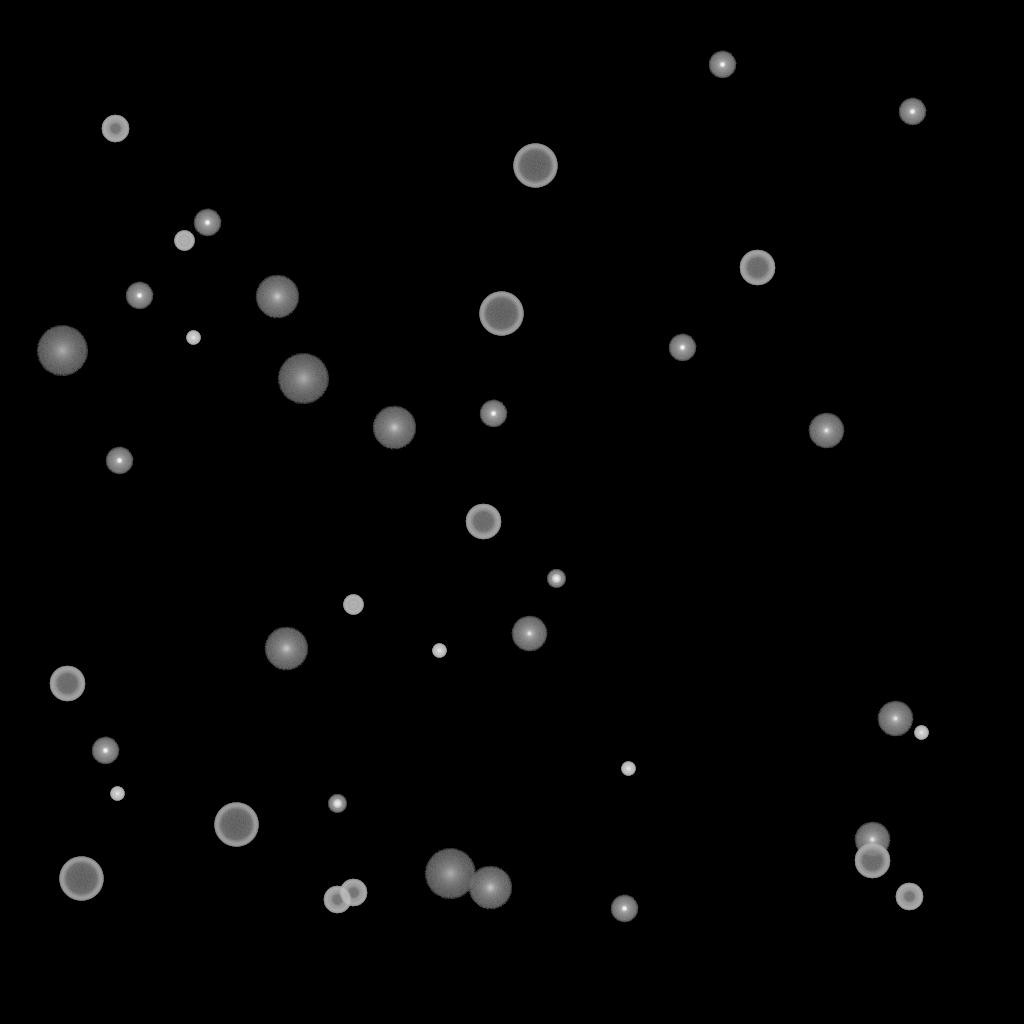depth:-10: (708, 51, 736, 79), (668, 334, 696, 362), (91, 737, 119, 765), (610, 895, 638, 923), (193, 209, 221, 237), (898, 98, 926, 126), (105, 447, 133, 475), (479, 400, 507, 428), (125, 282, 153, 310)
depth:-20: (328, 795, 346, 813), (547, 570, 565, 588)
depth:-30: (432, 644, 446, 658), (914, 726, 928, 740), (621, 762, 635, 776), (186, 331, 200, 345), (110, 787, 124, 801)
depth:-40: (174, 231, 194, 251), (343, 595, 363, 615)
depth:-50: (895, 883, 923, 911), (323, 886, 351, 914), (339, 879, 367, 907), (101, 115, 129, 143)
depth:-60: (739, 250, 775, 286), (465, 504, 501, 540), (49, 666, 85, 702), (854, 843, 890, 879)
depth:-70: (479, 292, 523, 336), (214, 803, 258, 847), (59, 857, 103, 901), (513, 144, 557, 188)
depth:0: (854, 822, 890, 858), (808, 413, 844, 449), (877, 701, 913, 737), (511, 616, 547, 652)
depth:10: (468, 866, 512, 910), (372, 406, 416, 450), (255, 275, 299, 319), (264, 627, 308, 671)
depth:20: (36, 326, 88, 376), (424, 849, 476, 899), (277, 354, 329, 404)
